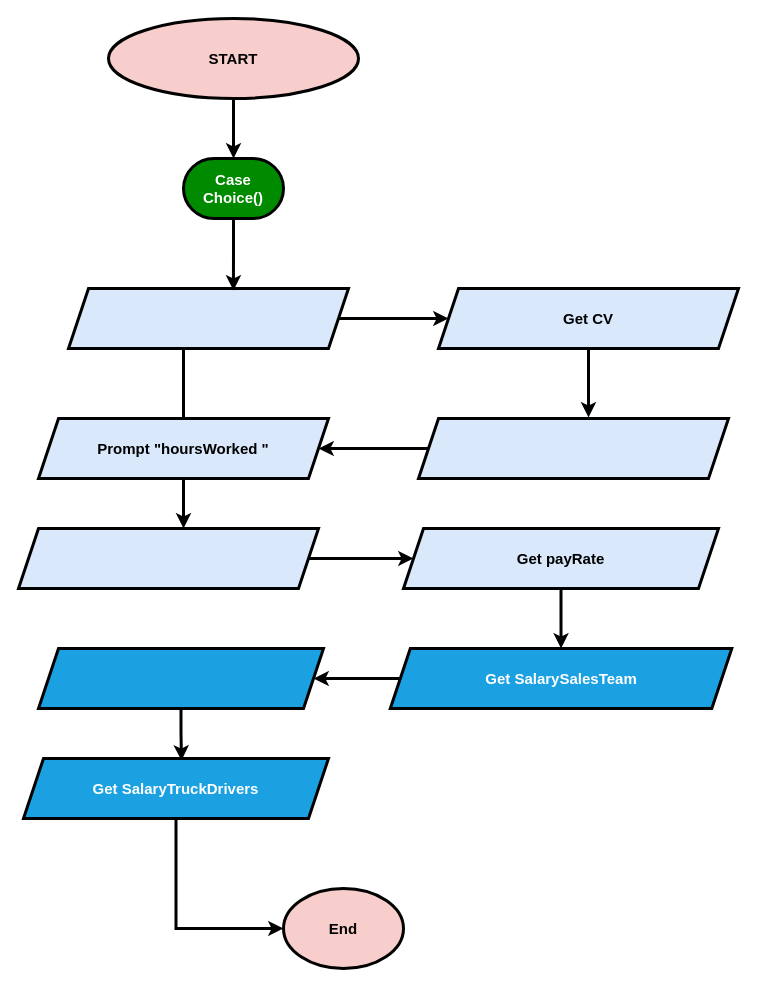
The diagram is 757 pixels wide and 987 high, and some of its shapes have lost their labels. Each missing label, with the centre of its shape:
Get EmpRec(): point (180, 678)
Get hoursWorked: point (573, 448)
Prompt "CV": point (208, 318)
Prompt "payRate ": point (168, 558)
